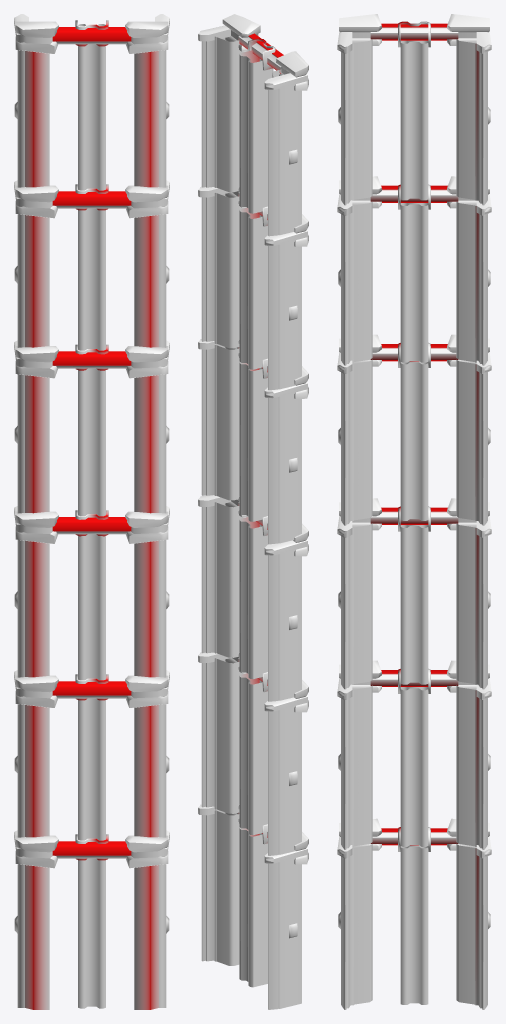
Rendered from MIDMK2.FBX.
3 renders of one model, left to right at view 1: azimuth 90°, elevation 25°; view 2: azimuth 210°, elevation 25°; view 3: azimuth 270°, elevation 25°, orthographic. The views are drawn at different scales.
Parts seen in each view (by area): view 1: ConveyorLiftMid_Mk2_static_LOD0.002; view 2: ConveyorLiftMid_Mk2_static_LOD0.002; view 3: ConveyorLiftMid_Mk2_static_LOD0.002.
Boxes of the visible parts, x1=… form: ConveyorLiftMid_Mk2_static_LOD0.002: x1=14, y1=14, x2=169, y2=1009; ConveyorLiftMid_Mk2_static_LOD0.002: x1=198, y1=14, x2=308, y2=1009; ConveyorLiftMid_Mk2_static_LOD0.002: x1=337, y1=14, x2=491, y2=1009.
Size of the model in its own units: 64.7 by 1247 by 178.
